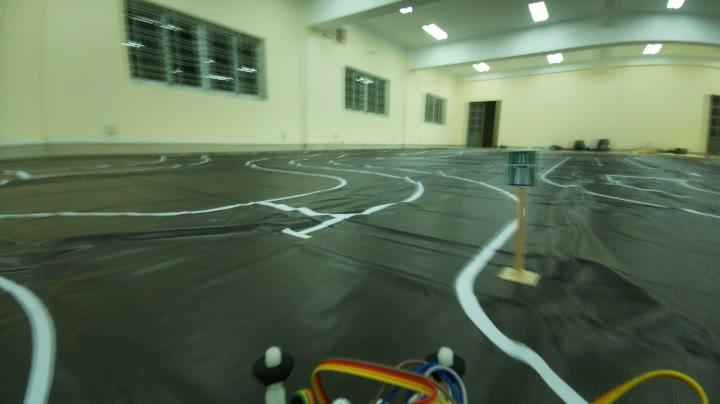highway_entry: (500, 146, 542, 198)
